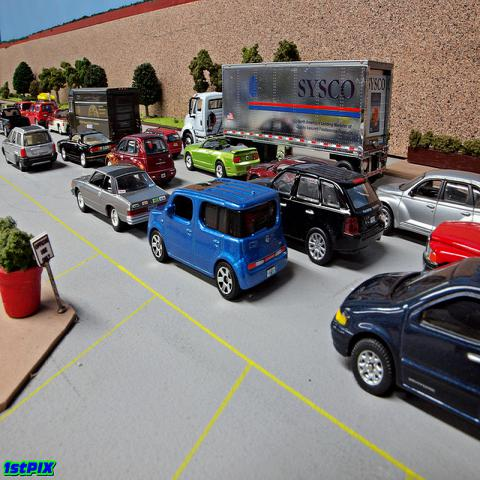car: (328, 255, 479, 442), (146, 177, 288, 302), (249, 166, 385, 266), (374, 171, 480, 239), (70, 163, 172, 232), (183, 135, 261, 179), (105, 137, 177, 184), (3, 122, 63, 174), (421, 219, 479, 267), (246, 155, 330, 181), (57, 131, 117, 166), (144, 127, 183, 159), (26, 103, 55, 129)
truck: (182, 63, 396, 170), (70, 84, 144, 145), (0, 107, 31, 138), (22, 102, 55, 127)
